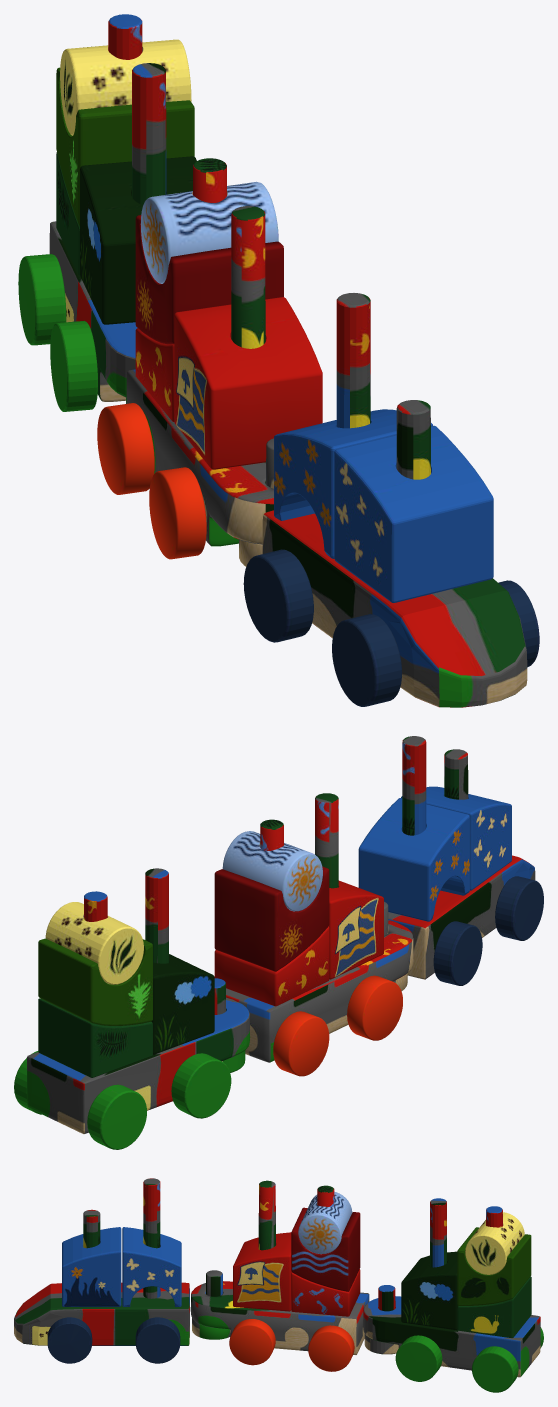
File: che.FBX
3 renders of one model, top to bottom at view 1: azimuth 30°, elevation 25°; view 2: azimuth 150°, elevation 25°; view 3: azimuth 270°, elevation 25°, orthographic. The views are drawn at different scales.
Visible parts, largest first — view 1: car-2, car-1, car-3; view 2: car-3, car-1, car-2; view 3: car-3, car-1, car-2.
Part boxes in pixels (x1,y1,x2,y2): car-2: [243, 293, 539, 707]; car-1: [97, 158, 322, 566]; car-3: [18, 14, 196, 411]; car-3: [14, 868, 250, 1149]; car-1: [214, 793, 413, 1076]; car-2: [358, 736, 543, 985]; car-3: [363, 1198, 543, 1392]; car-1: [190, 1180, 369, 1371]; car-2: [14, 1178, 189, 1363].
Size of the model in its own units: 15.42 by 16.24 by 47.95.
